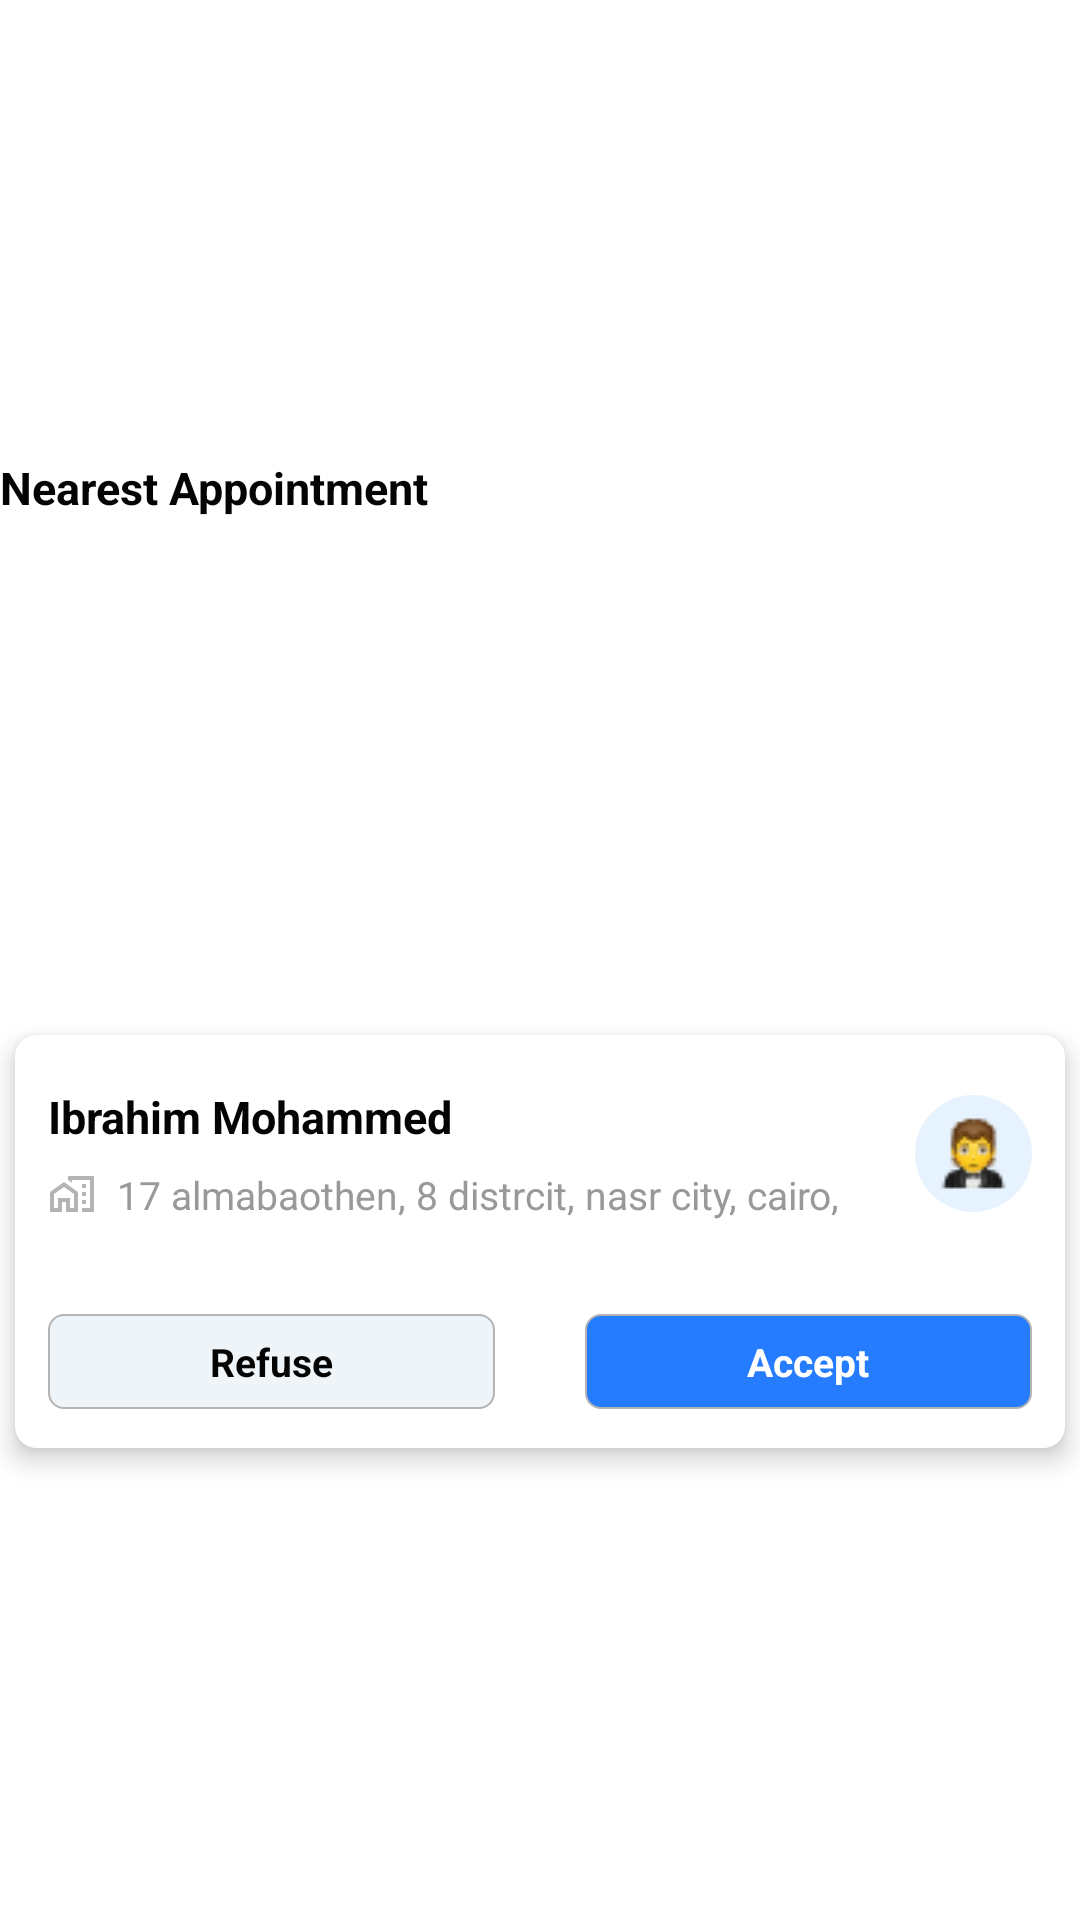

Named icons in this screenshot (1080×1920) and their bounding boxes, {"x1": x1, "y1": y1, "x2": x2, "y2": y2}:
patient imaged: {"x1": 915, "y1": 1095, "x2": 1032, "y2": 1212}
